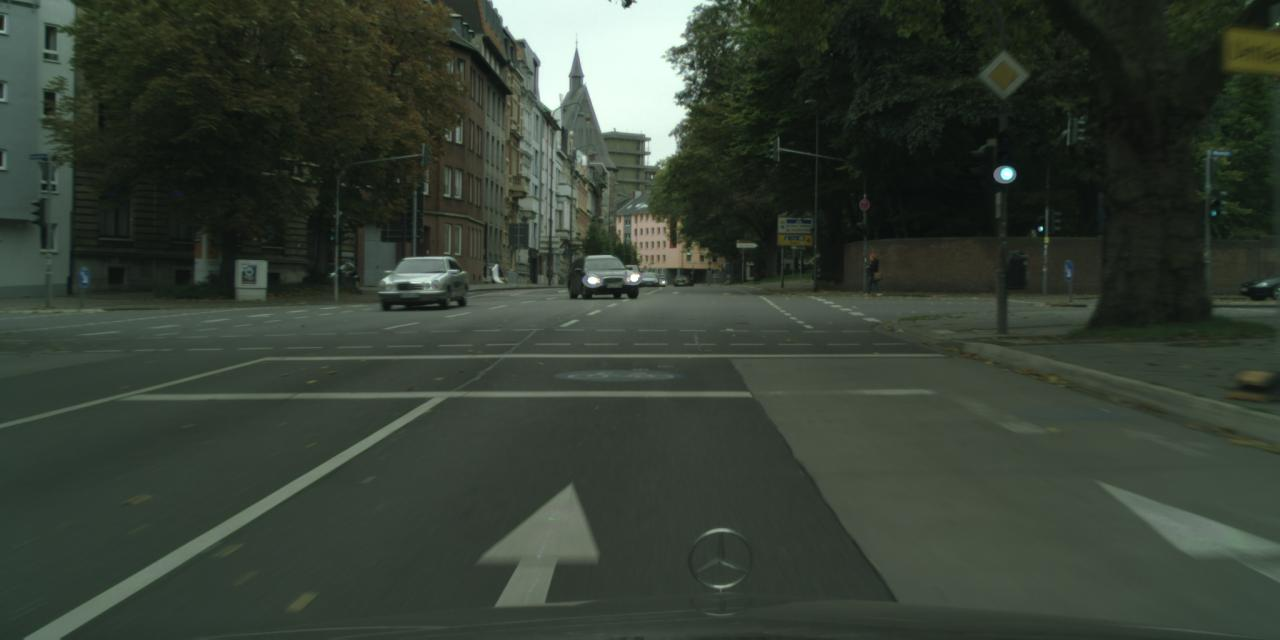ped: (864, 254, 880, 294)
